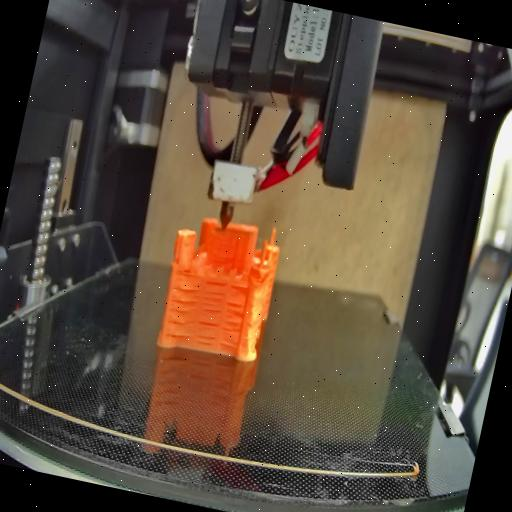cracks: (162, 282, 200, 343), (216, 298, 246, 346), (200, 280, 230, 316), (193, 318, 219, 350), (176, 262, 196, 278), (230, 280, 250, 294)
